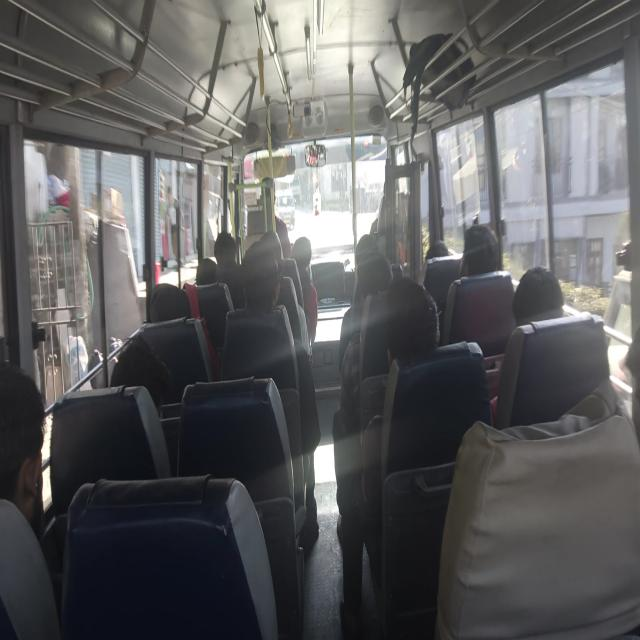person: (0, 372, 71, 528), (515, 280, 583, 366), (387, 286, 438, 362), (108, 337, 164, 402), (246, 247, 289, 323), (364, 255, 404, 328), (462, 226, 507, 285), (147, 268, 185, 314), (294, 226, 324, 277), (212, 229, 243, 267), (199, 249, 226, 290), (348, 228, 374, 266), (264, 237, 294, 268), (426, 230, 450, 258)
